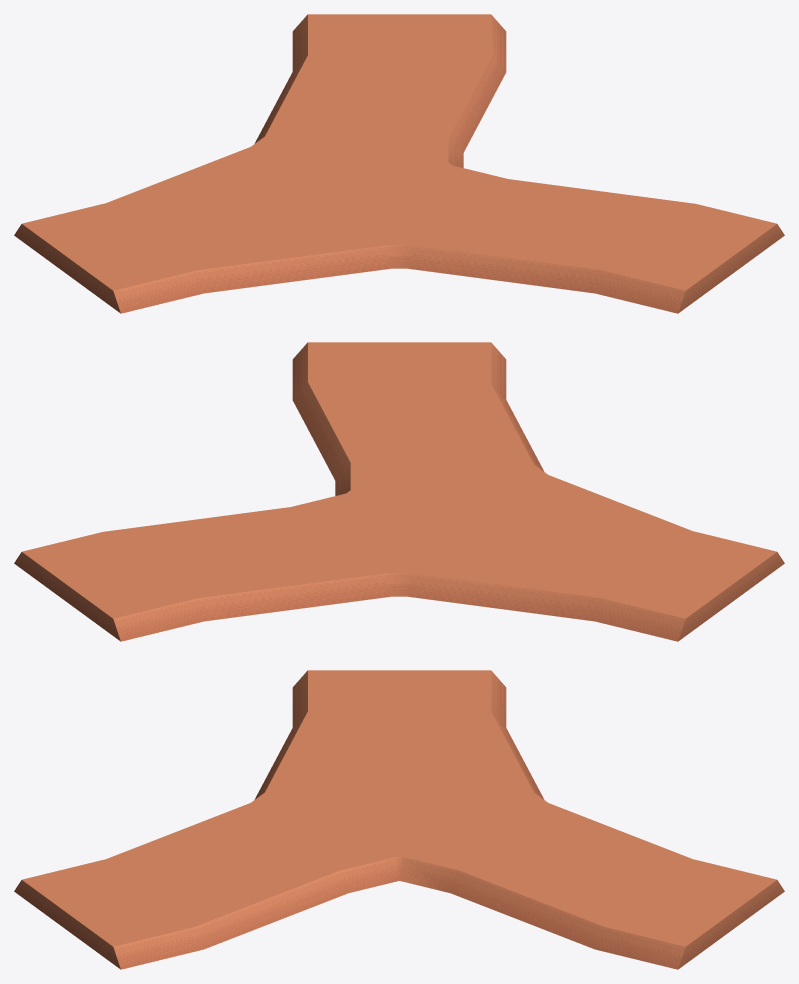
File: path-intersectionF.glb
3 views of the same model, one above another, from view 1: azimuth 30°, elevation 25°; view 2: azimuth 150°, elevation 25°; view 3: azimuth 270°, elevation 25° (orthographic).
Parts seen in each view (by area): view 1: path-intersectionF; view 2: path-intersectionF; view 3: path-intersectionF.
Part boxes in pixels (x1=…): path-intersectionF: x1=14, y1=14, x2=784, y2=313; path-intersectionF: x1=14, y1=342, x2=784, y2=641; path-intersectionF: x1=14, y1=670, x2=784, y2=969.
Size of the model in its own units: 0.8708 by 0.025 by 1.01.
1 material, 1 textured.
